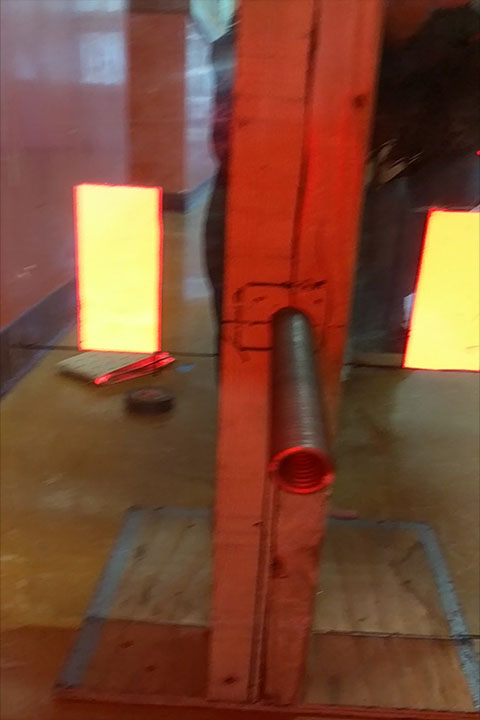gear: (74, 183, 161, 355), (402, 209, 480, 371)
